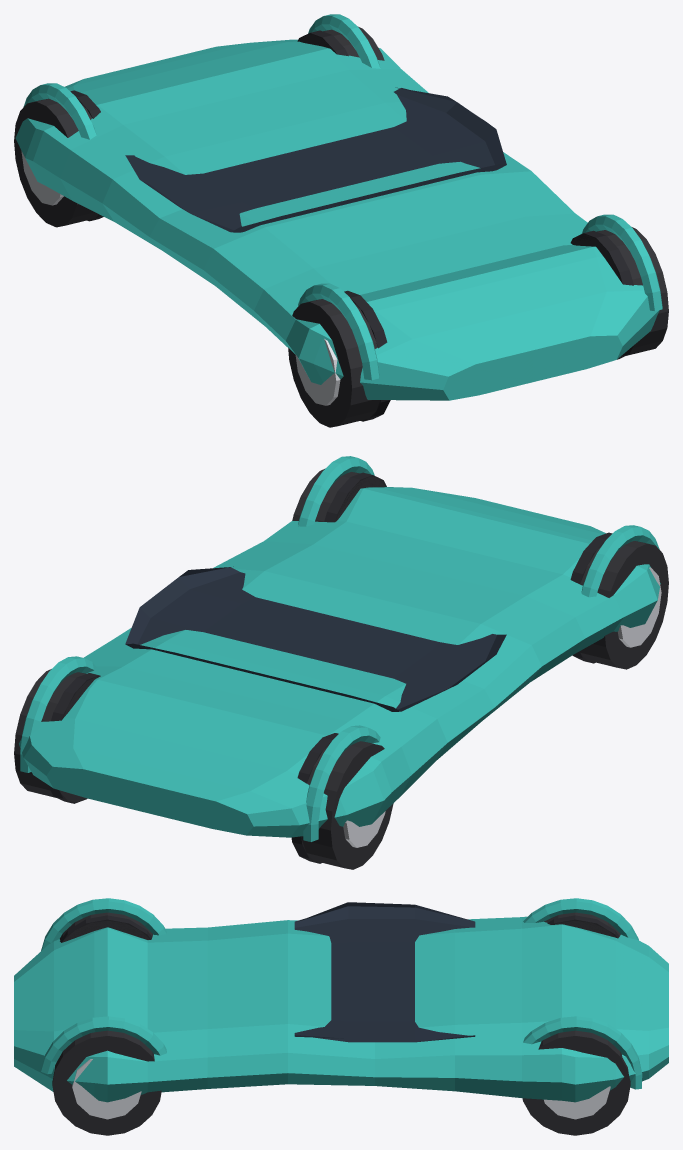
The model's file is hatch.glb.
3 renders of one model, top to bottom at view 1: azimuth 30°, elevation 25°; view 2: azimuth 150°, elevation 25°; view 3: azimuth 270°, elevation 25°, orthographic. The views are drawn at different scales.
Visible parts, largest first — view 1: body, glass_canopy, wheel_front_tyre.001, wheel_rear_tyre.001, wheel_front_tyre, body_arch.001, body_arch, body_arch.003, body_arch.002, wheel_front_rim.001, wheel_front_well, wheel_front_well.001 (+2 smaller); view 2: body, glass_canopy, wheel_rear_tyre.001, wheel_front_tyre.001, body_arch.003, wheel_rear_tyre, body_arch.002, body_arch.001, body_arch, wheel_front_tyre, wheel_front_rim.001, wheel_rear_well.001 (+4 smaller); view 3: body, glass_canopy, wheel_front_tyre, wheel_rear_tyre, body_arch, body_arch.002, body_arch.001, body_arch.003, wheel_front_rim, wheel_front_tyre.001, wheel_rear_rim, wheel_rear_tyre.001 (+2 smaller).
Part boxes in pixels (x1,y1,x2,y2): body: (15, 39, 659, 400); glass_canopy: (125, 87, 506, 232); wheel_front_tyre.001: (288, 299, 379, 427); wheel_rear_tyre.001: (14, 98, 98, 227); wheel_front_tyre: (571, 227, 668, 355); body_arch.001: (298, 283, 379, 380); body_arch: (581, 214, 662, 310); body_arch.003: (23, 83, 96, 139); body_arch.002: (308, 14, 380, 68); wheel_front_rim.001: (295, 339, 340, 405); wheel_front_well: (570, 230, 633, 359); wheel_front_well.001: (344, 290, 390, 421); body: (19, 487, 660, 837); glass_canopy: (125, 566, 506, 711); wheel_rear_tyre.001: (301, 741, 393, 869); wheel_front_tyre.001: (579, 541, 668, 669); body_arch.003: (303, 725, 380, 841); wheel_rear_tyre: (14, 669, 98, 802); body_arch.002: (20, 656, 96, 772); body_arch.001: (581, 525, 659, 597); body_arch: (298, 456, 374, 526); wheel_front_tyre: (292, 468, 386, 521); wheel_front_rim.001: (618, 567, 661, 647); wheel_rear_well.001: (291, 733, 338, 863); body: (14, 916, 668, 1102); glass_canopy: (294, 902, 475, 1042); wheel_front_tyre: (52, 1030, 161, 1135); wheel_rear_tyre: (522, 1030, 630, 1135); body_arch: (41, 1016, 166, 1074); body_arch.002: (523, 1016, 642, 1089); body_arch.001: (41, 898, 166, 950); body_arch.003: (523, 898, 638, 940); wheel_front_rim: (72, 1059, 141, 1119); wheel_front_tyre.001: (60, 912, 152, 942); wheel_rear_rim: (544, 1086, 610, 1119); wheel_rear_tyre.001: (544, 912, 620, 937).
Bounding box in the file's own units: 2.12 × 0.7385 × 3.92.
